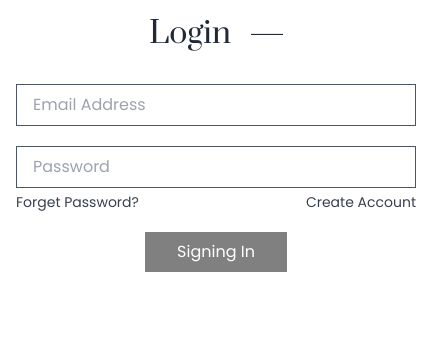
toggle between sign up and login
Step 1. Click the text "Create Account" → (361, 202), box top-left (306, 192), bottom-right (416, 212)
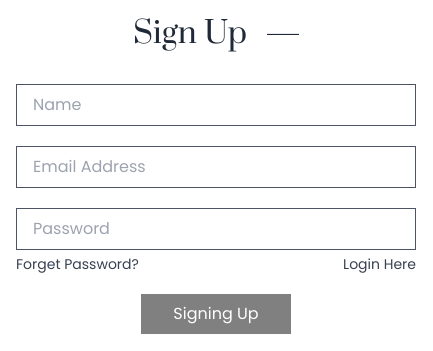
Now the text "Sign Up" is shown, box top-left (133, 16), bottom-right (247, 52)
Now the field with placeholder "Name" is shown, box top-left (16, 84), bottom-right (416, 126)
Step 2. Click the text "Login Here" → (380, 264), box top-left (343, 254), bottom-right (416, 274)
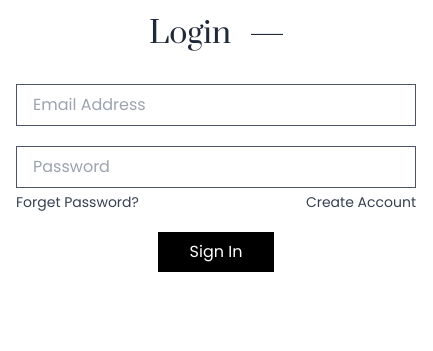
Now the text "Login" is shown, box top-left (149, 16), bottom-right (231, 52)
Now the field with placeholder "Name" is gone
